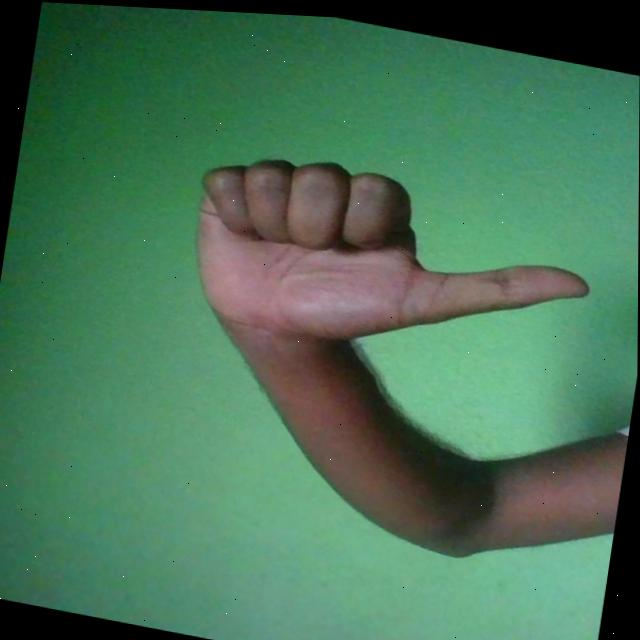Dislike: (182, 136, 600, 388)
